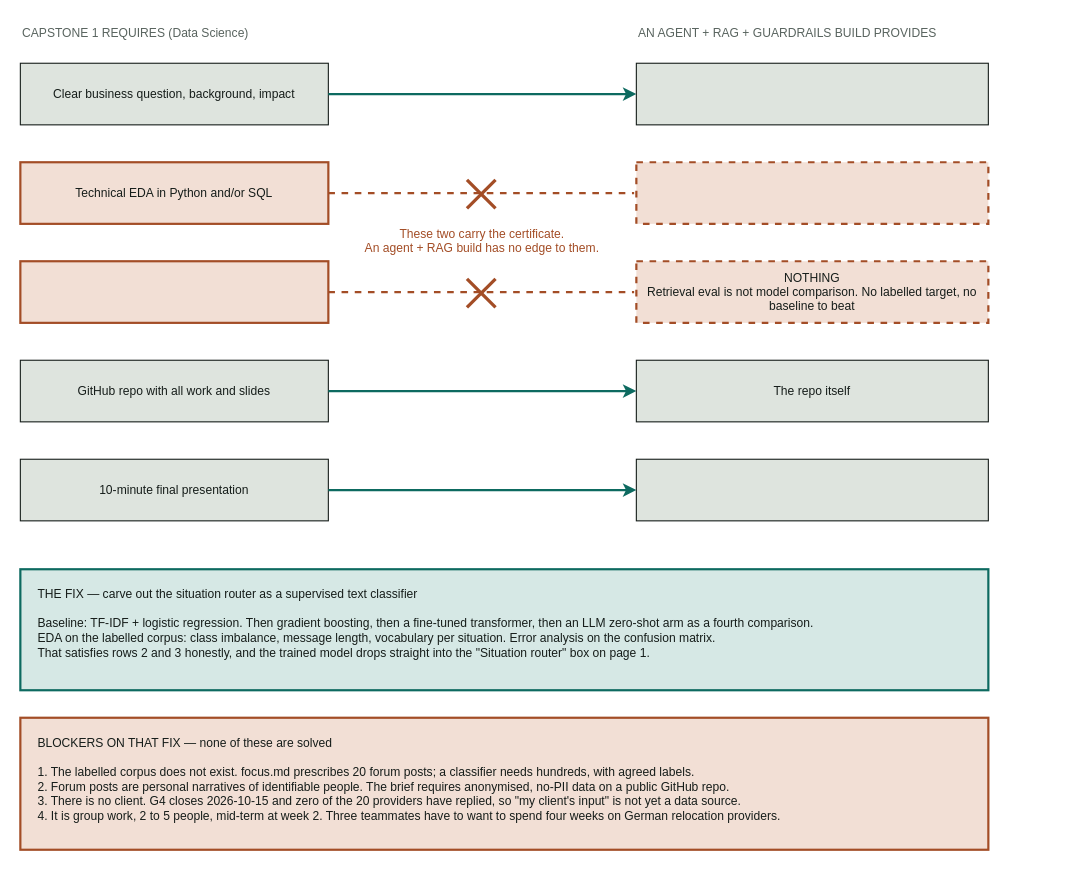
Image size: 1073x869. Some labels were removed from this diagram. The shapes that lost their labels are listed below. From the top down, each one's centre as x and y in pixels, then its label:
At (811,93): "The aftercare gap: the contract ends at week 6, the assignment fails in month 4".
At (812,192): "NOTHING A RAG corpus is documents, not a dataset with distributions to explore".
At (174,291): "Multiple models tried and compared against a baseline".
At (811,489): "The 10-minute deck".
